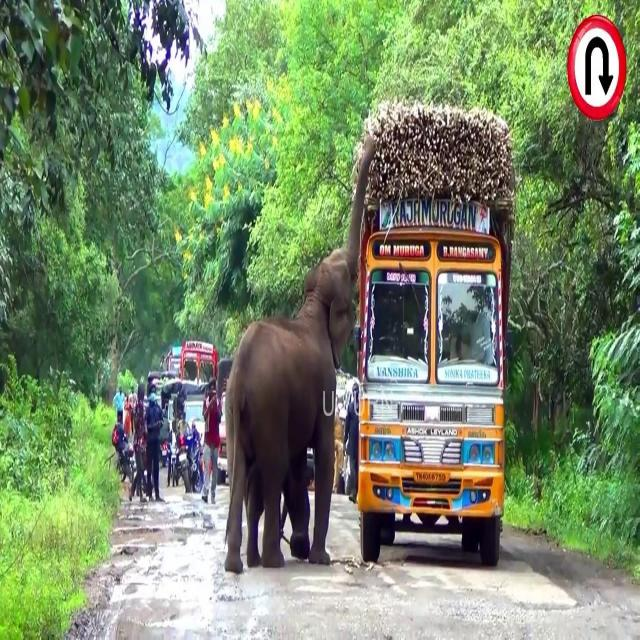Elephant: (223, 252, 356, 572)
